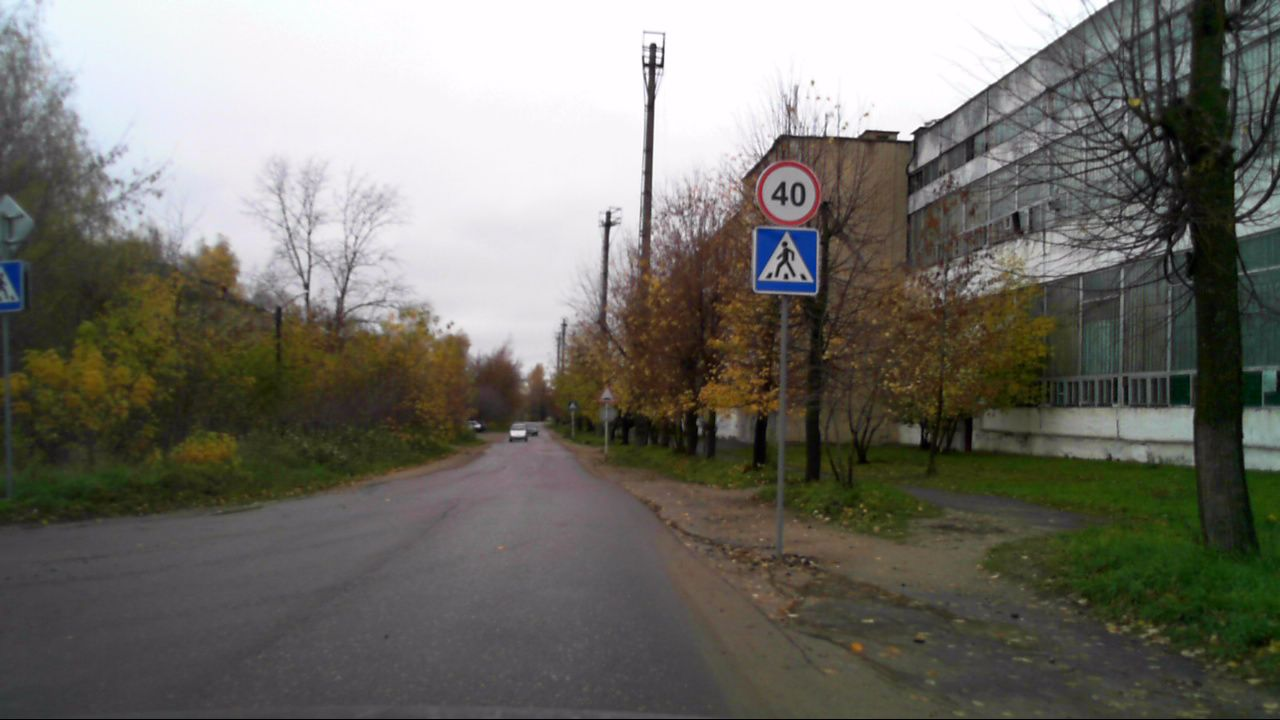speed_warning_40: (756, 159, 821, 226)
